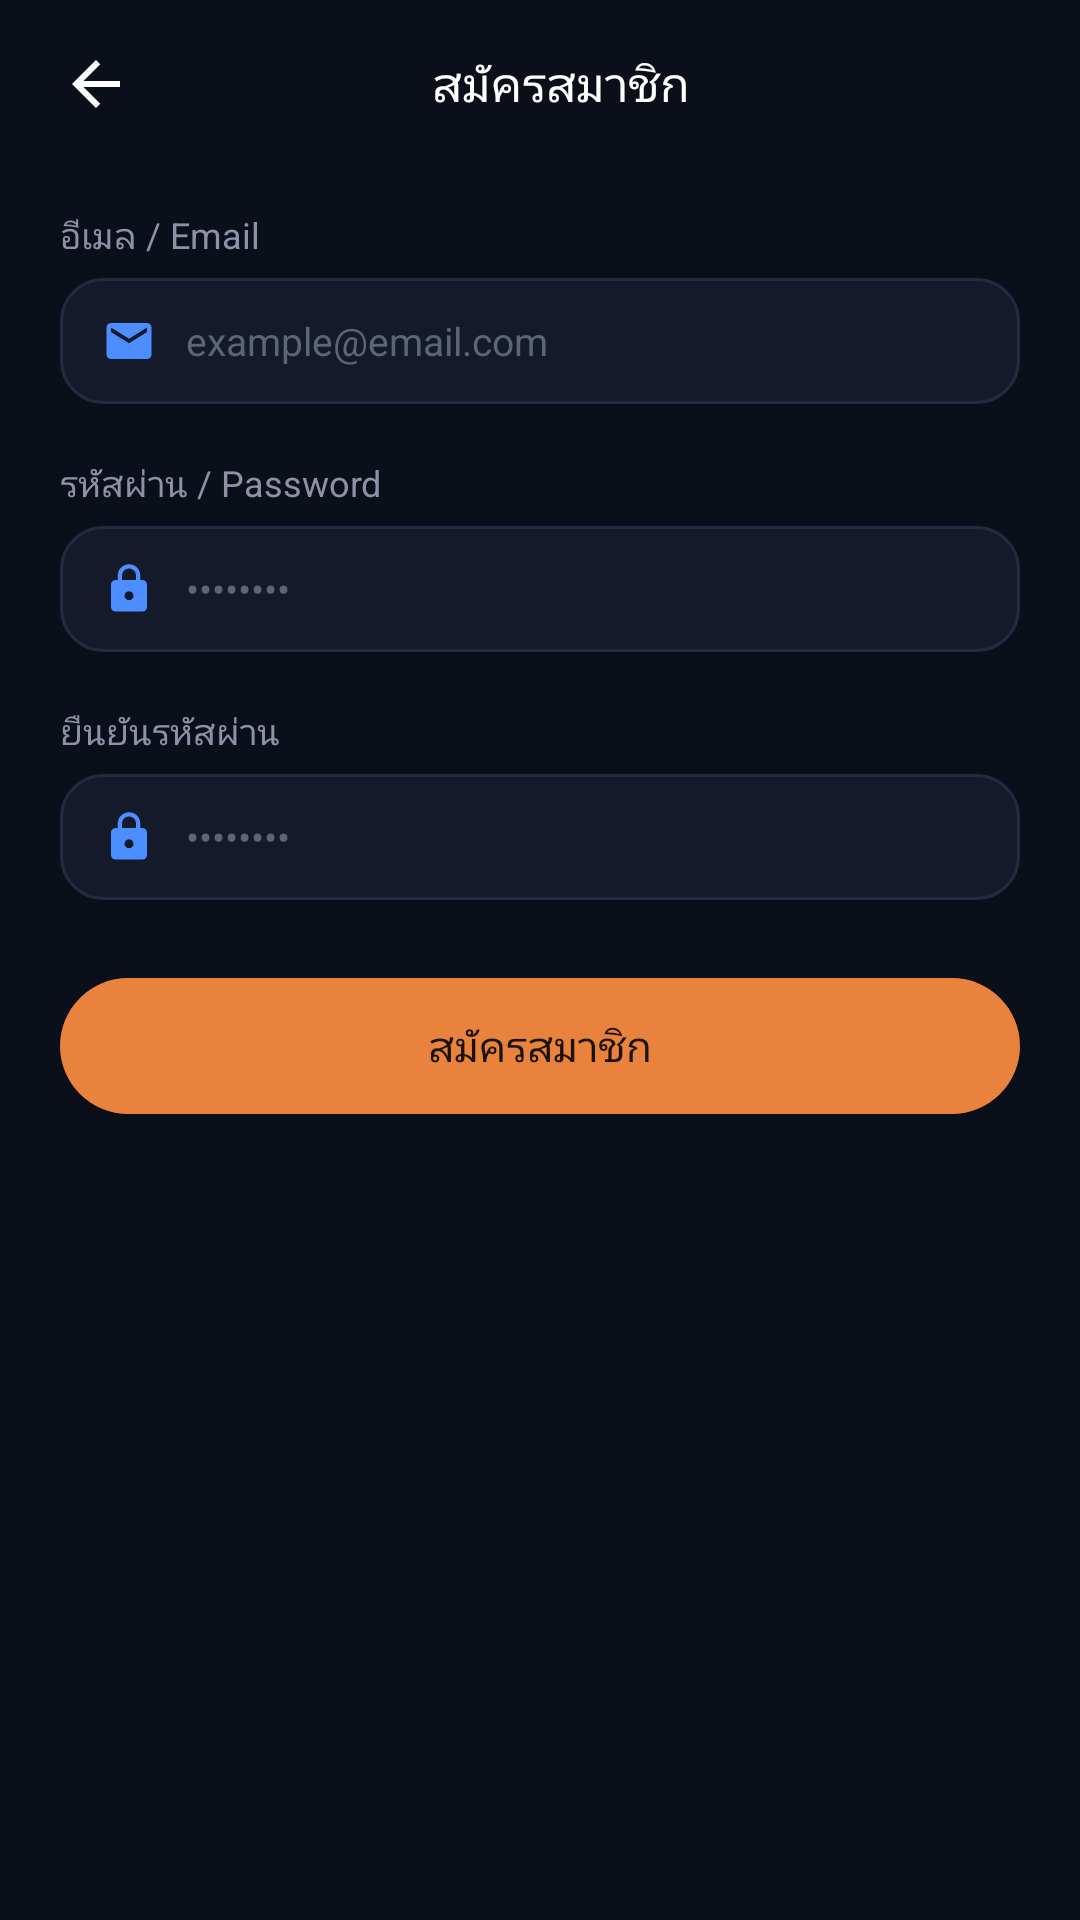

Screen size 1080 × 1920. Icon name, then its box in pixels as [x1, y1, x2, y2]:
back: [72, 60, 120, 108]
lock: [111, 564, 147, 612], [111, 812, 147, 860]
